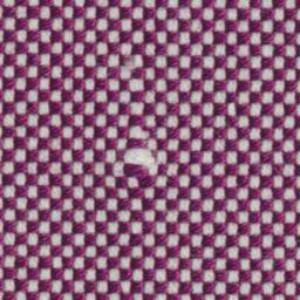defect: (109, 49, 161, 181)
